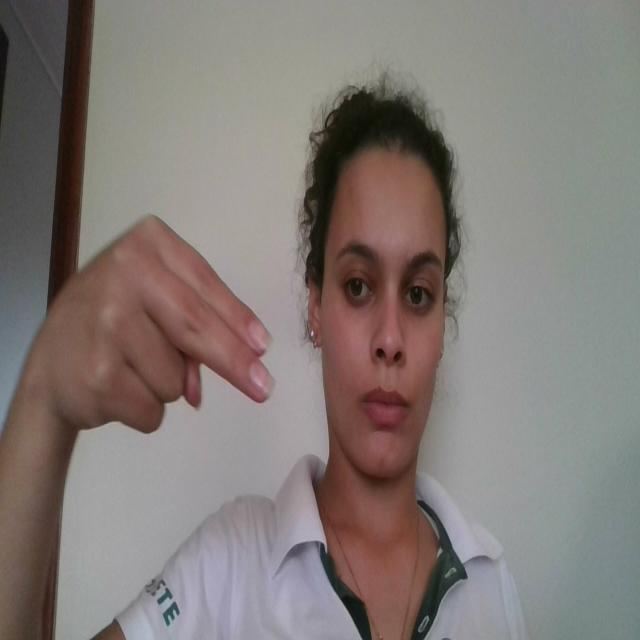N: (52, 213, 279, 438)
